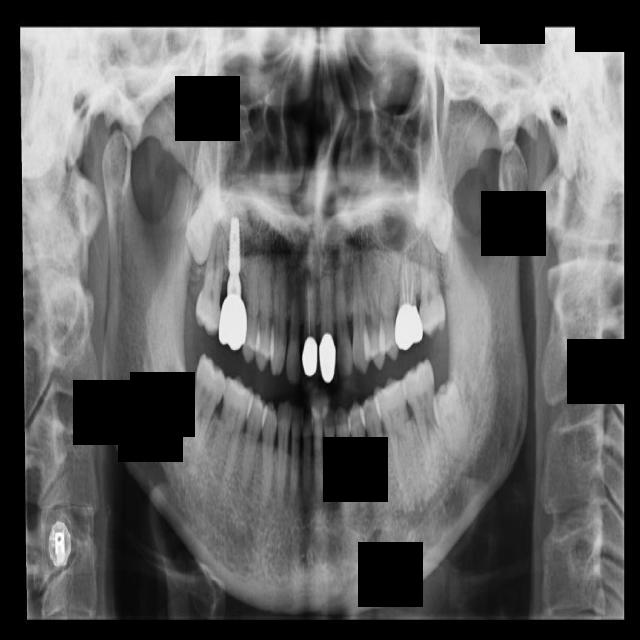3M ESPE Implant: (175, 176, 235, 267)
52: (217, 293, 250, 352), (394, 302, 424, 351), (318, 333, 337, 393), (301, 337, 319, 394)
73: (397, 240, 417, 309), (303, 269, 318, 344), (606, 578, 610, 592)
BioHorizons Implant: (416, 232, 447, 339)
BioLife Implant: (427, 194, 456, 256)
Biomet 3i Implant: (426, 379, 473, 467)
Blue Sky Bio Implant: (398, 358, 449, 468)
Caries: (194, 223, 226, 337)
Implant: (180, 351, 231, 463)
